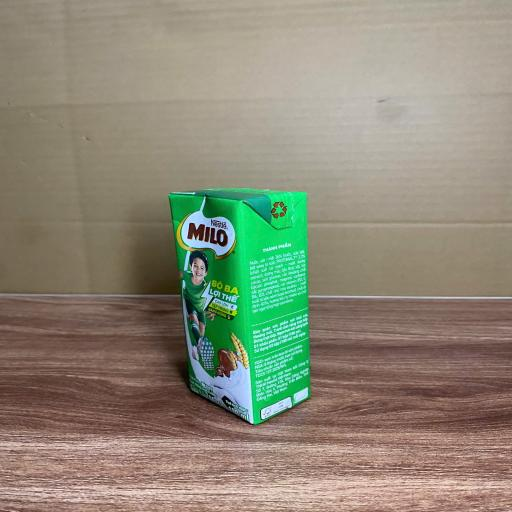milo: (171, 186, 311, 425)
